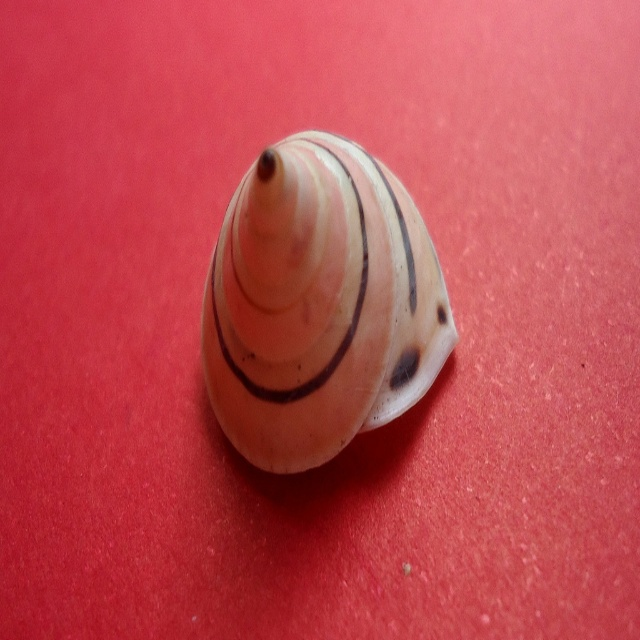Snail: (196, 118, 460, 477)
